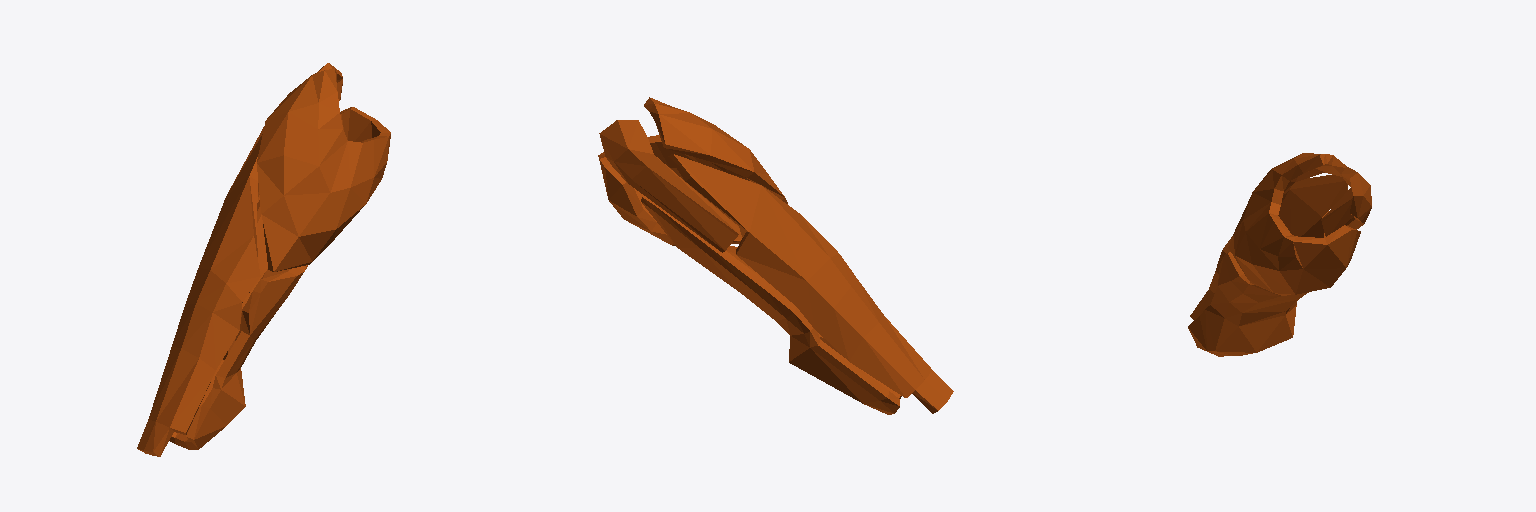
The model's file is Glove_Polish.obj.
3 renders of one model, left to right at view 1: azimuth 30°, elevation 25°; view 2: azimuth 150°, elevation 25°; view 3: azimuth 270°, elevation 25°, orthographic.
Visible parts, largest first — view 1: Plane001; view 2: Plane001; view 3: Plane001.
Boxes of the visible parts, x1,y1,x2,y2 form: Plane001: [137, 63, 390, 456]; Plane001: [598, 97, 953, 414]; Plane001: [1188, 153, 1371, 356].
Bounding box in the file's own units: 19.31 × 18.85 × 10.56.